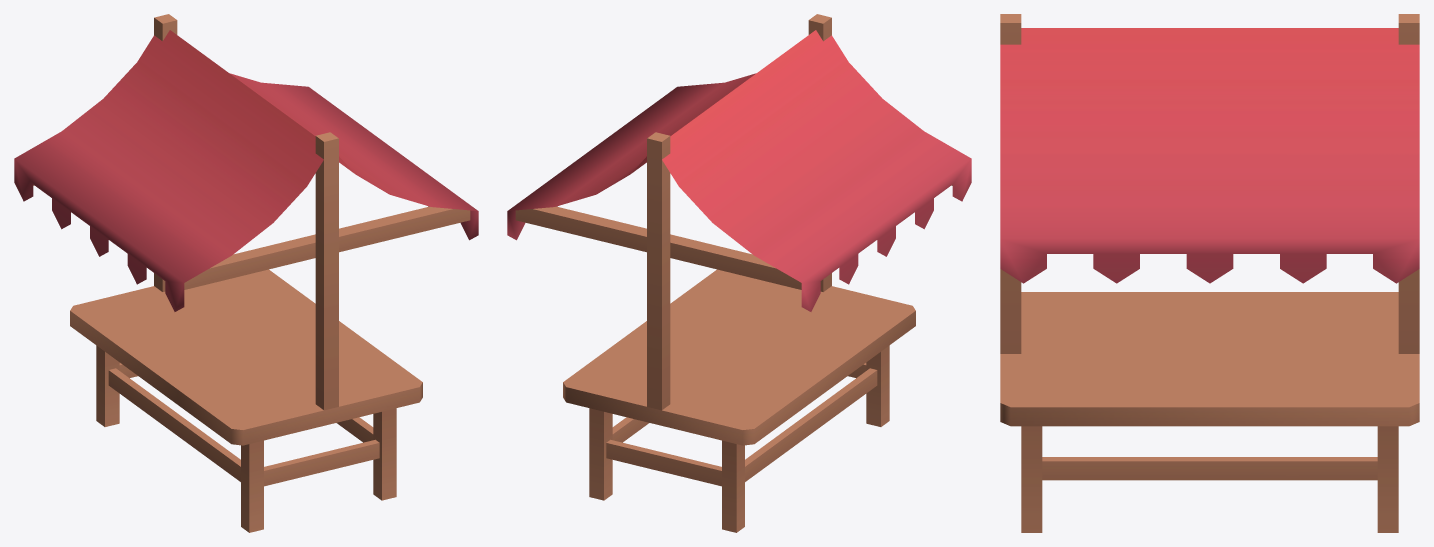
File: stall_b.glb
3 views of the same model, side by side, from view 1: azimuth 30°, elevation 25°; view 2: azimuth 150°, elevation 25°; view 3: azimuth 270°, elevation 25° (orthographic). The views are drawn at different scales.
Parts seen in each view (by area): view 1: stall-red; view 2: stall-red; view 3: stall-red.
Boxes of the visible parts, x1=… form: stall-red: x1=14, y1=14, x2=478, y2=532; stall-red: x1=507, y1=14, x2=971, y2=532; stall-red: x1=1000, y1=14, x2=1419, y2=532.
Bounding box in the file's own units: 1 × 1.24 × 1.
1 material, 1 textured.
